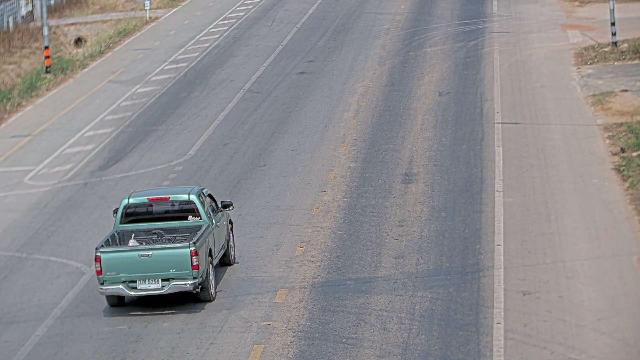pickup-truck: (94, 184, 236, 307)
